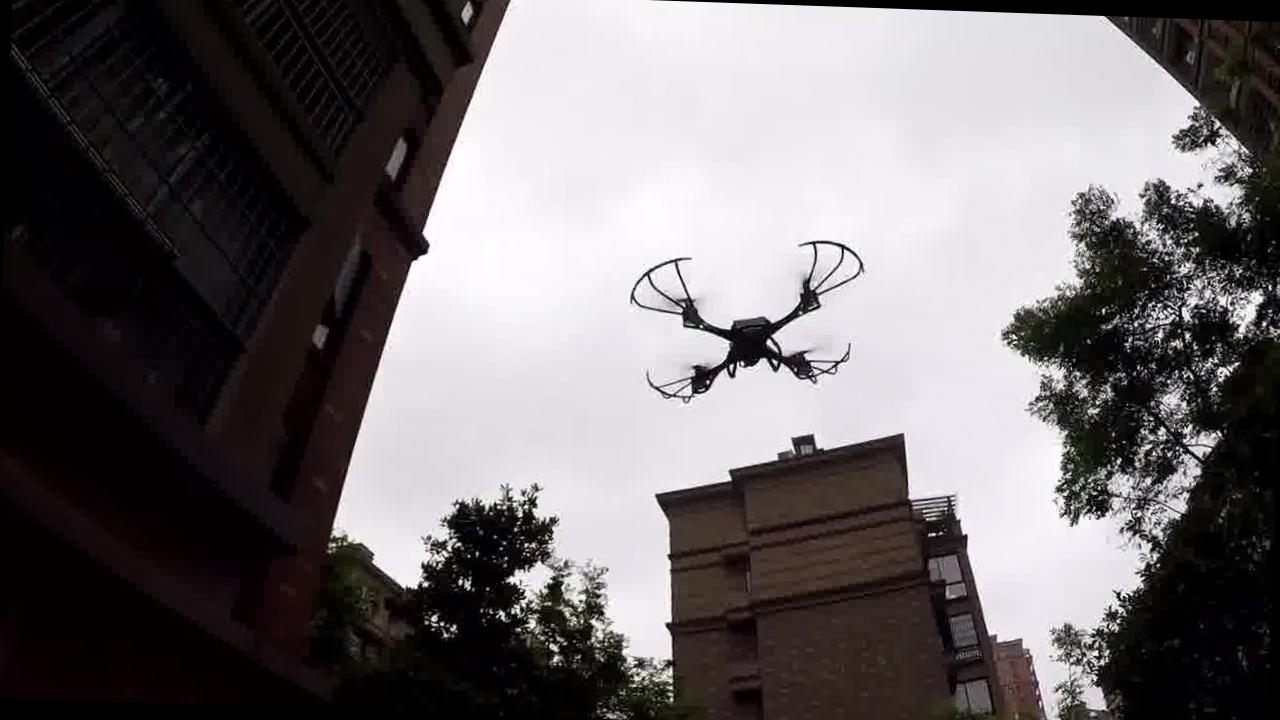drone: (620, 220, 867, 426)
